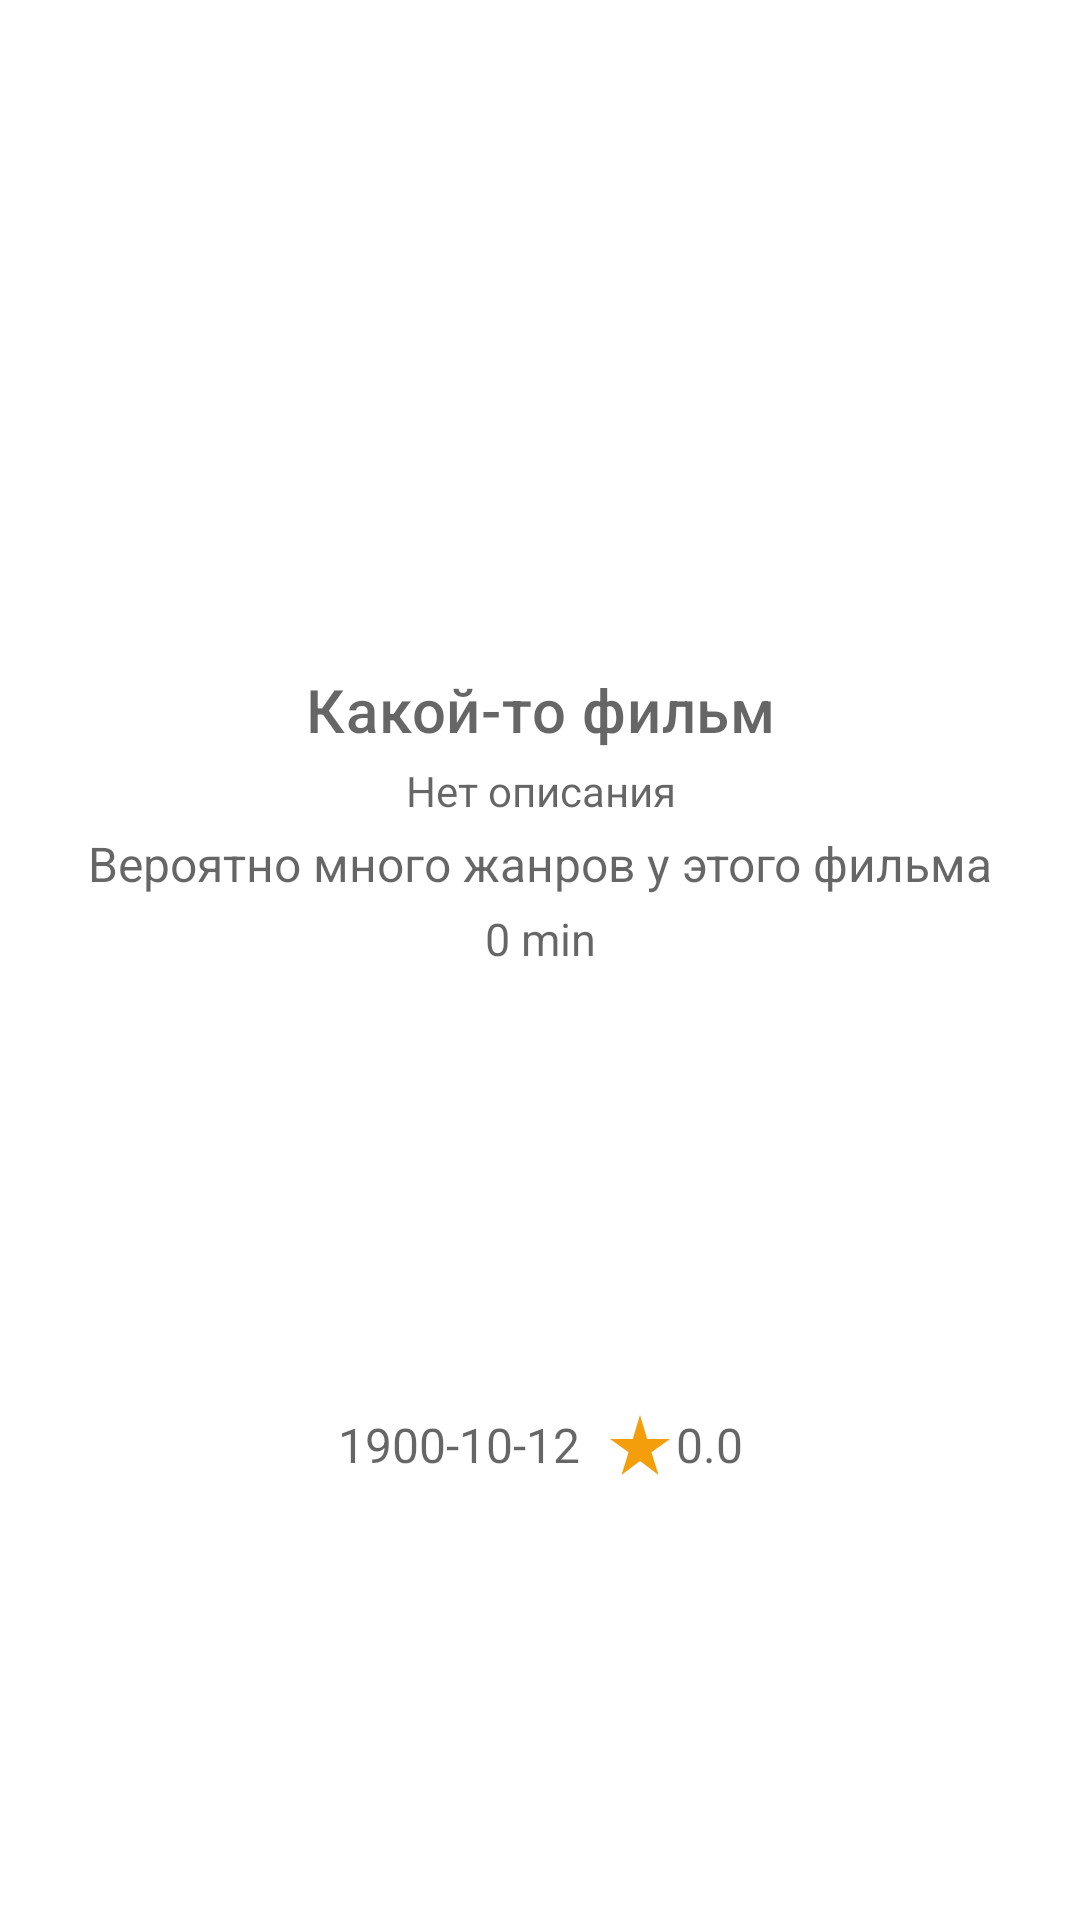

Point at icon controls on the screen. Image size 1080w x 1920h, points as (x=x, y=y).
star rate: (x=640, y=1445)
